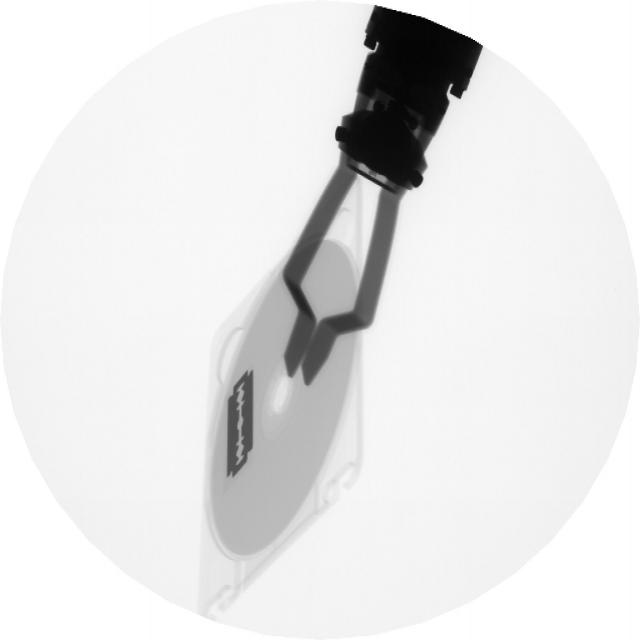BLADE: (214, 359, 265, 489)
